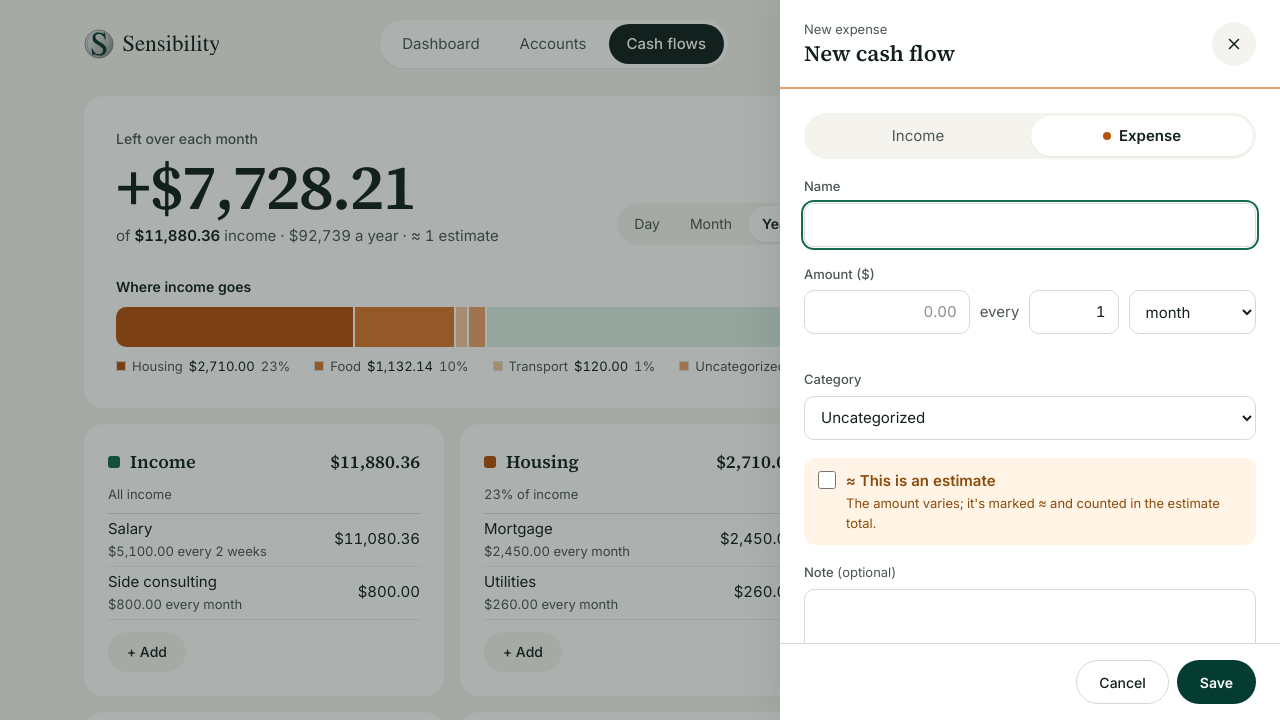
Scenario: the cash flow drawer, new › creates, and says what it comes to a month
Expected: the dialog is shown, [780,0,1279,719]
Type "  Gym  " into the field labelled "Name" at (1030, 224), box [804,202,1256,246]
Type "$1,045.505" into the field labelled "Amount ($)" at (887, 312), box [804,290,970,334]
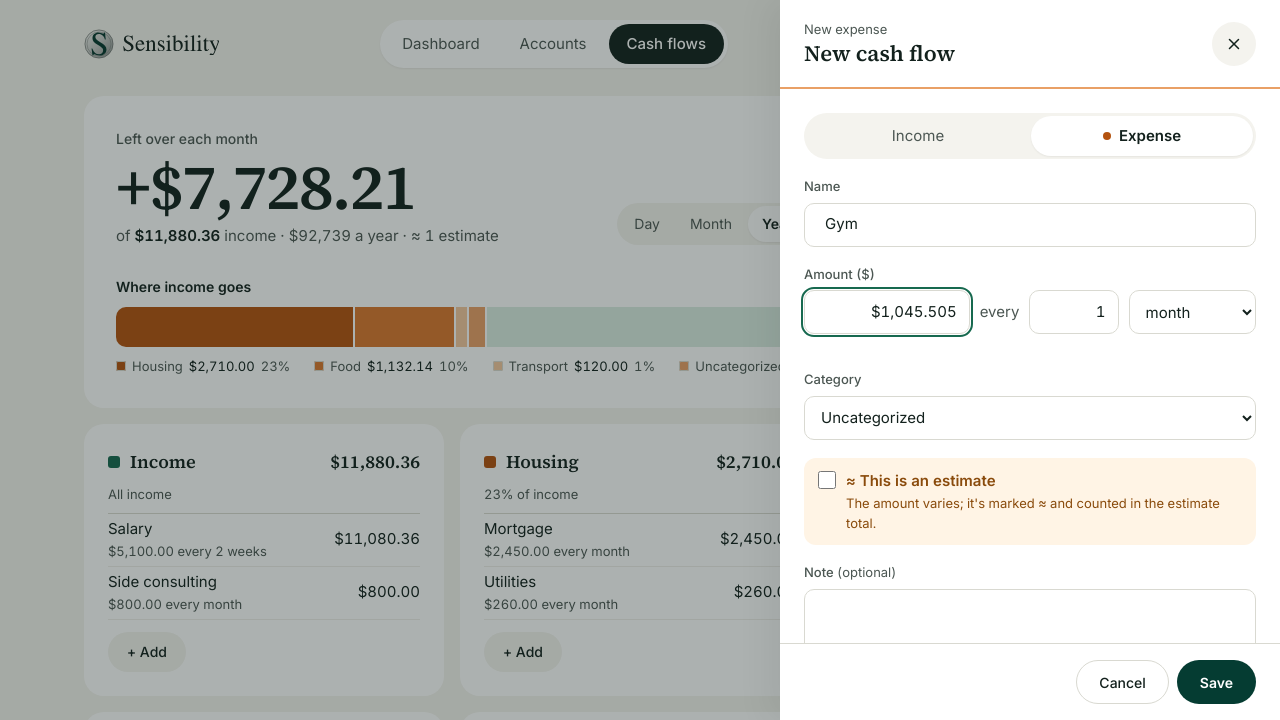
Replace the text in the 3rd field with "2" at (1074, 312), box [1029,290,1118,334]
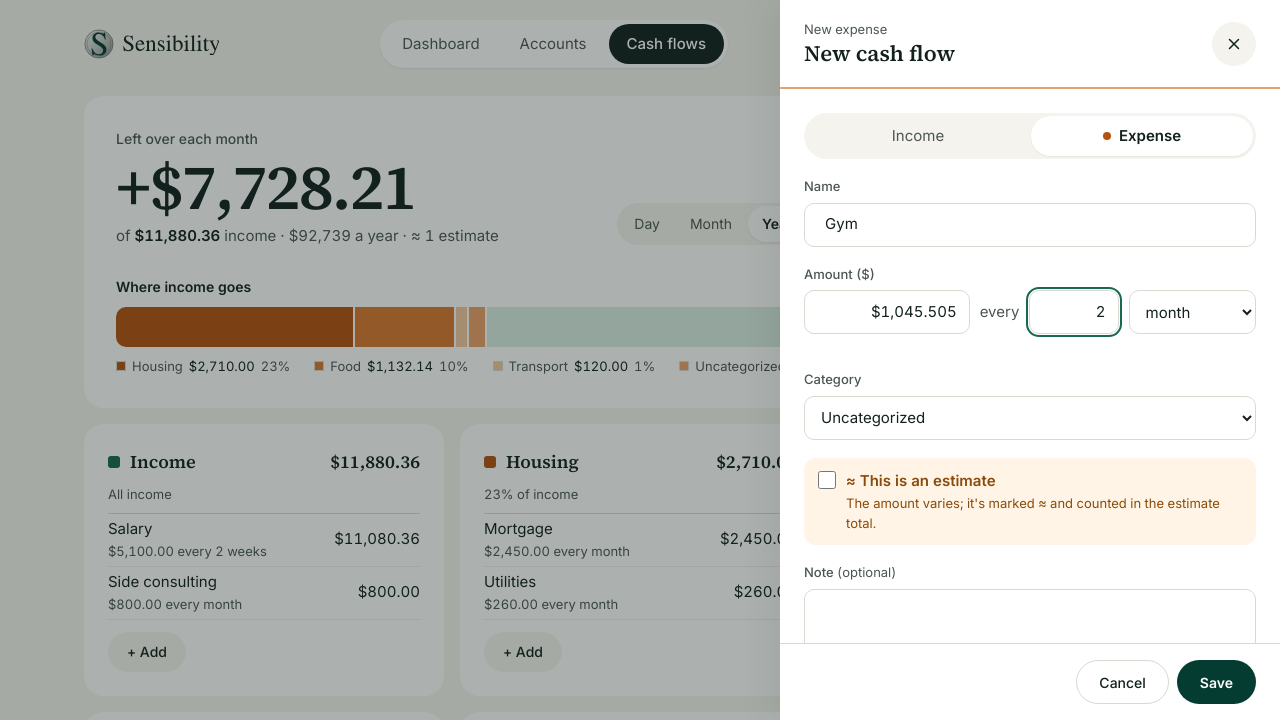
Select "week" in the 1st dropdown at (1192, 312), box [1129,290,1256,334]
Select "Housing" in the dropdown labelled "Category" at (1030, 418), box [804,396,1256,440]
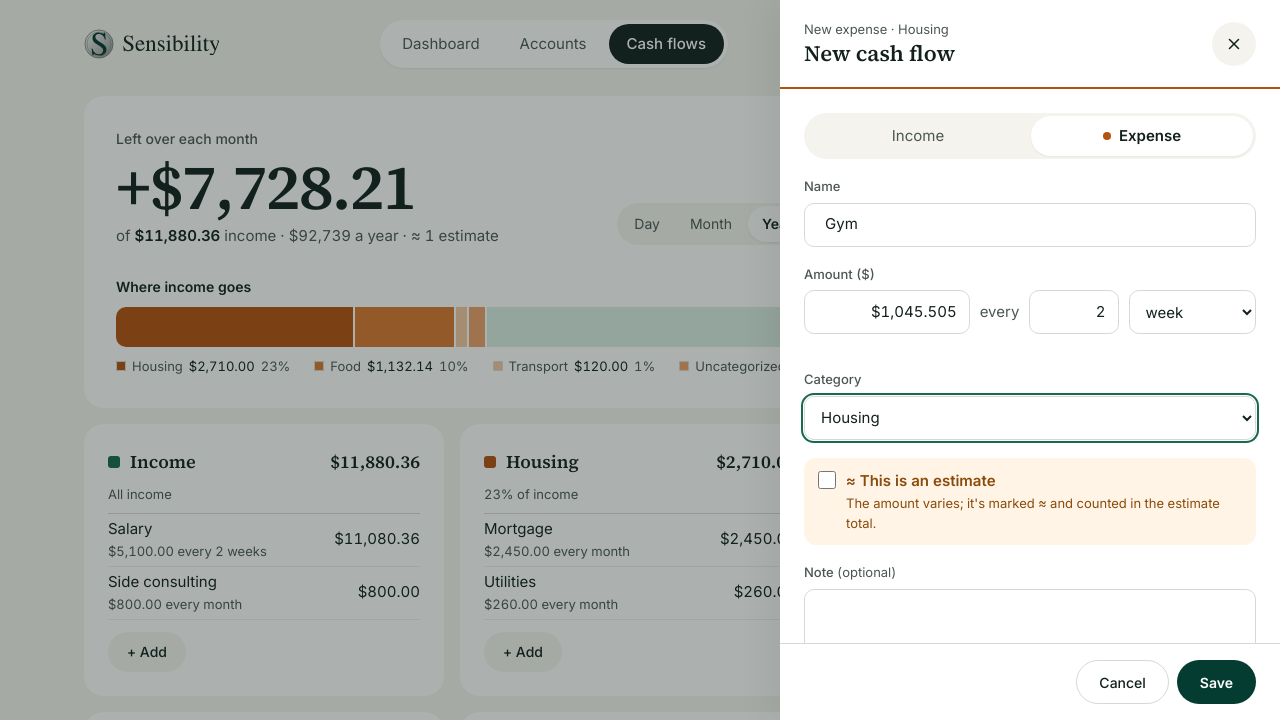
Click the checkbox labelled "This is an estimate" at (827, 480), box [818,470,836,488]
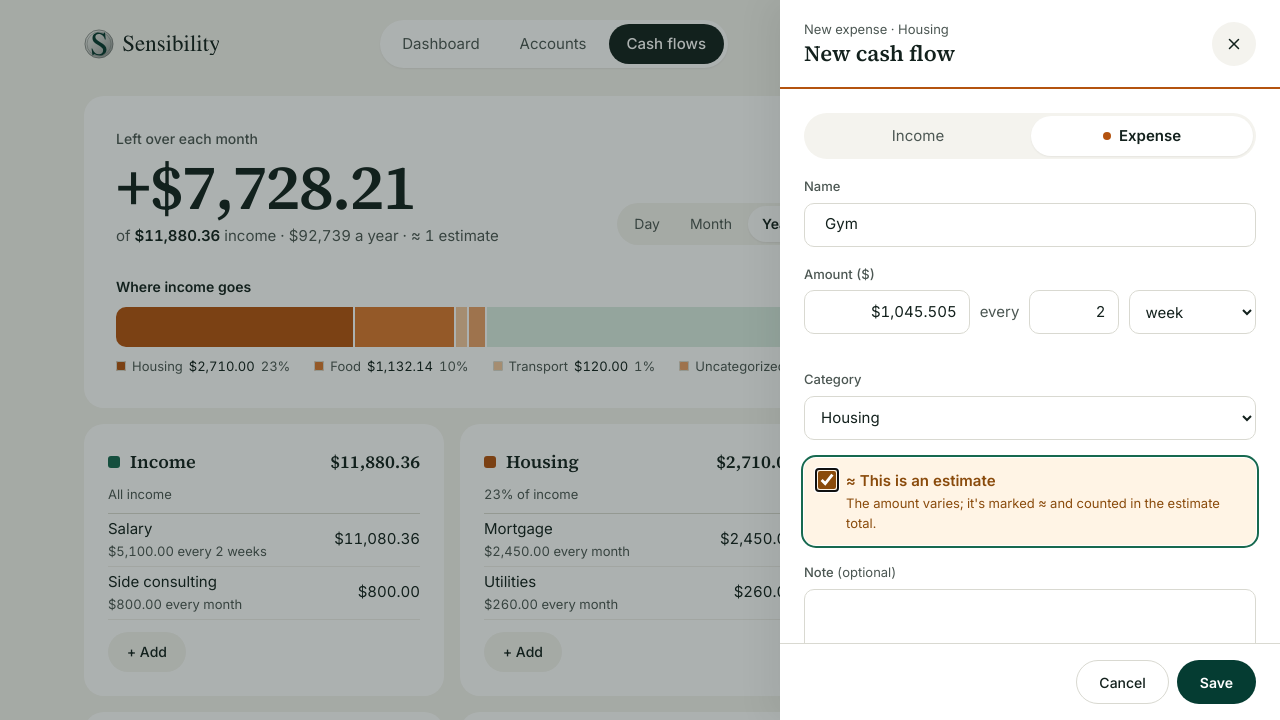
Type " Monthly pass " into the text box labelled "Note (optional)" at (1030, 631), box [804,588,1256,674]
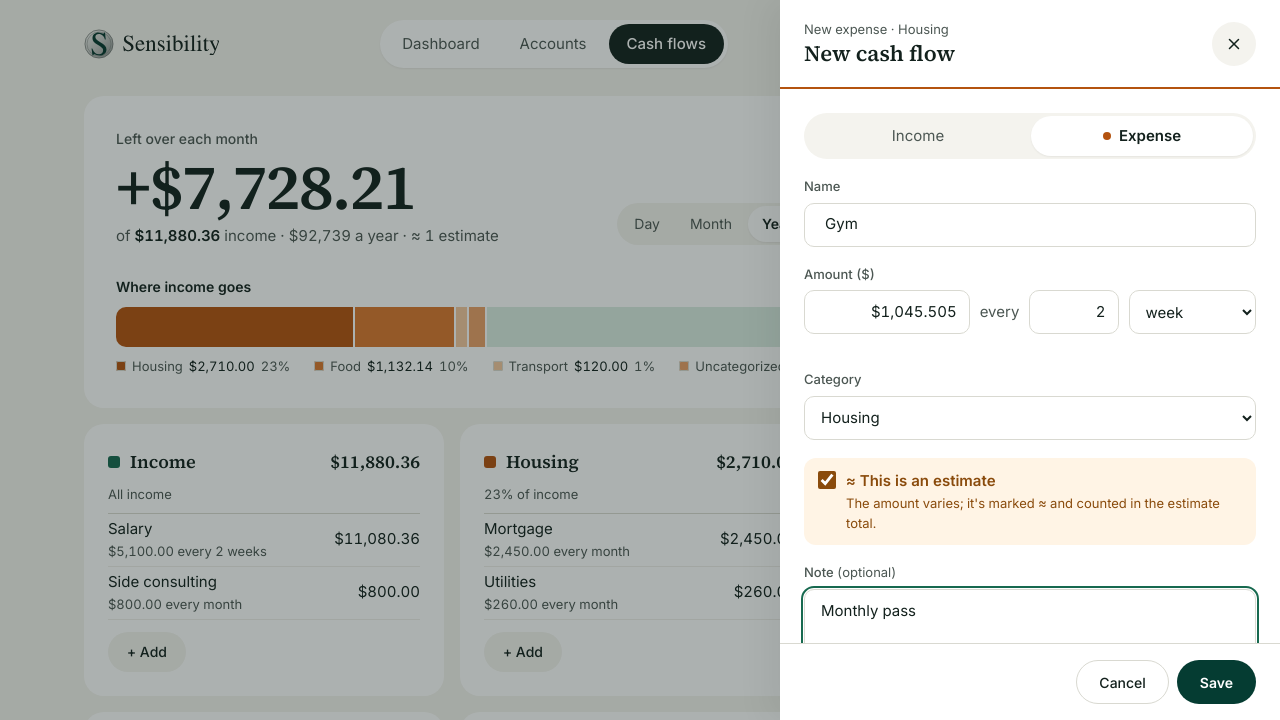
Click the button "Save" at (1216, 682), box [1177,660,1256,704]
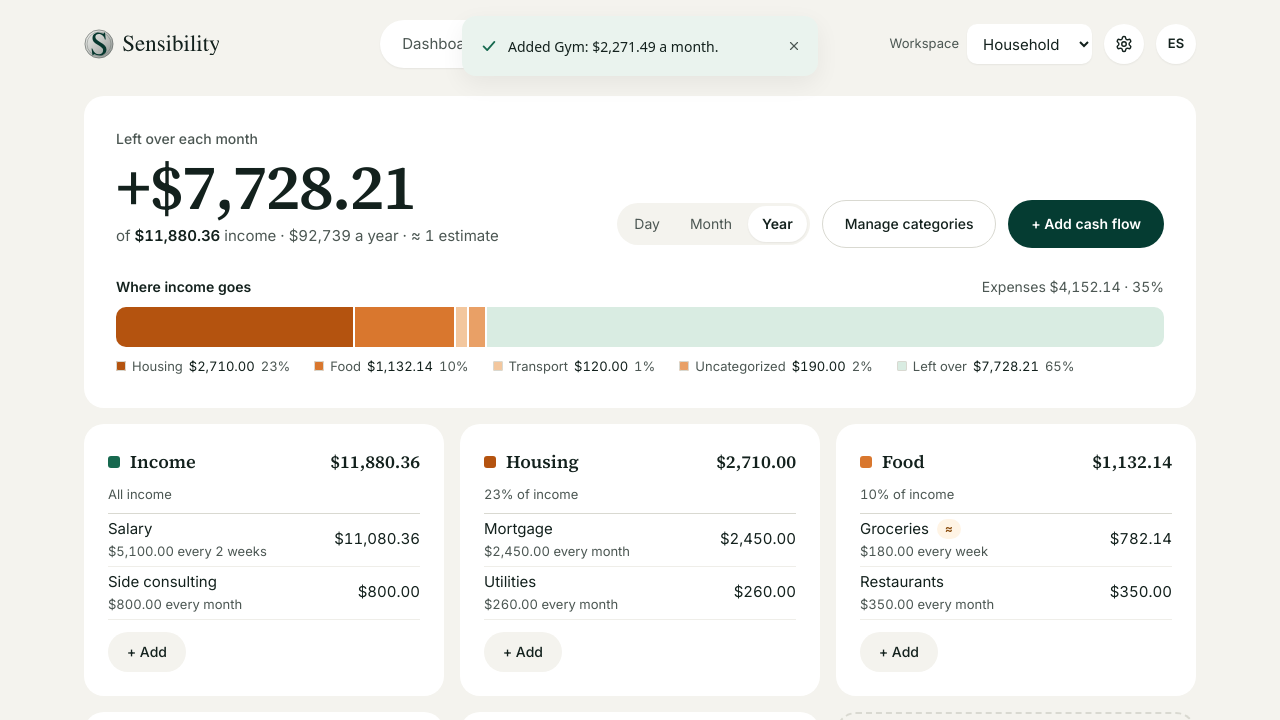
Now the text "Added Gym: $2,271.49 a month." is shown, box [508,36,718,56]
